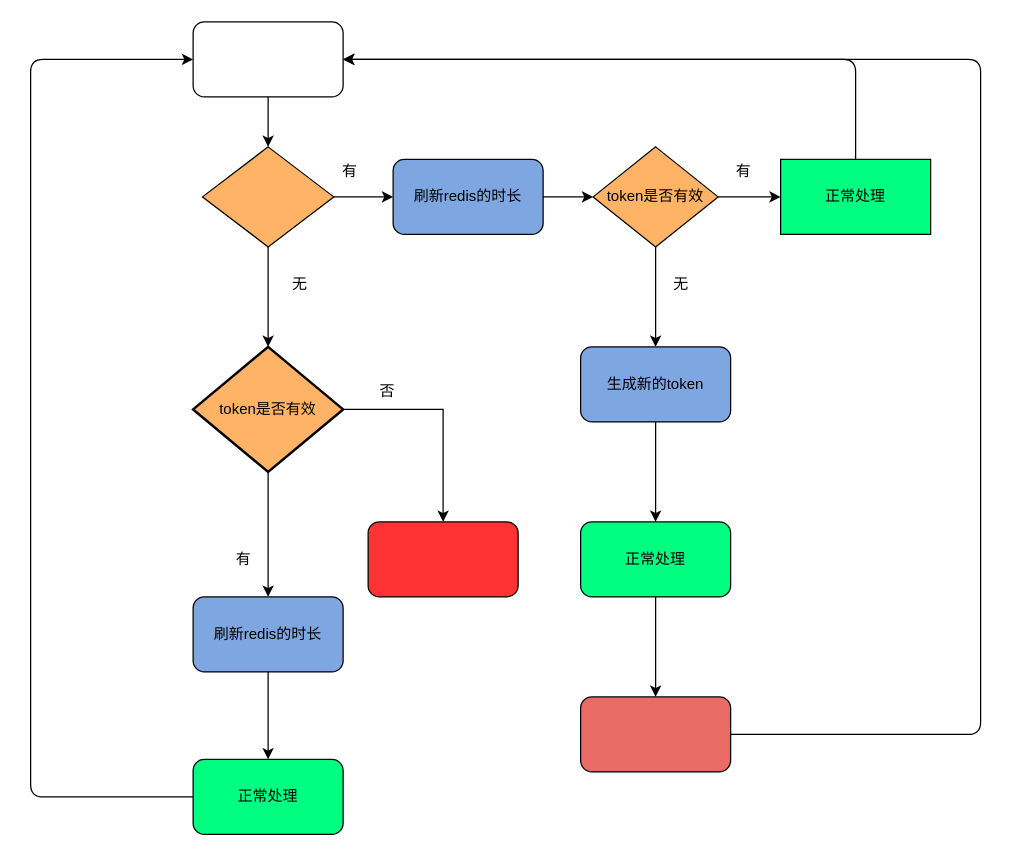
Image size: 1013x856. Some labels were removed from this diagram. Each missing label, with the centre of its shape:
"redis是否还有值" goes at pixel 267 196.
"前端刷新本地token值" goes at pixel 655 734.
"浏览器请求后台" goes at pixel 267 59.
"登录页面" goes at pixel 442 559.
